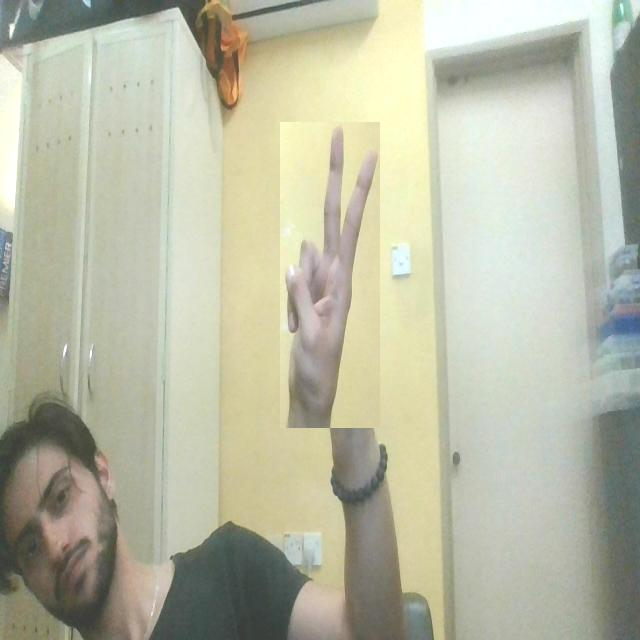peace: (280, 122, 380, 428)
